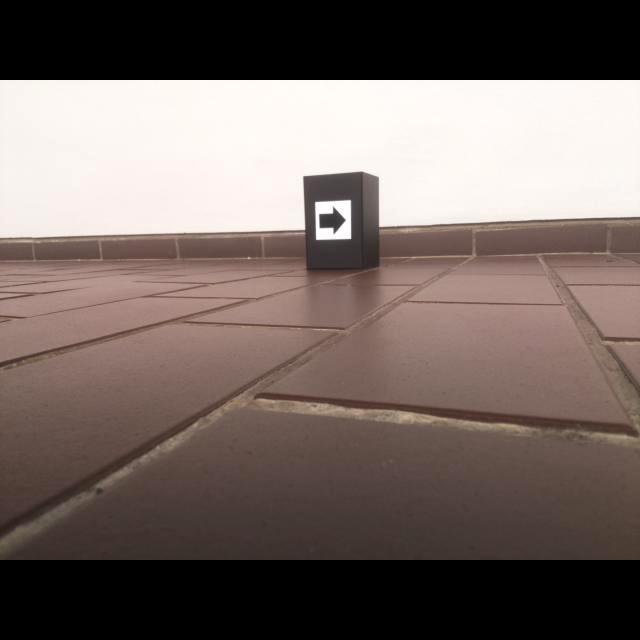RIGHT: (319, 205, 347, 236)
